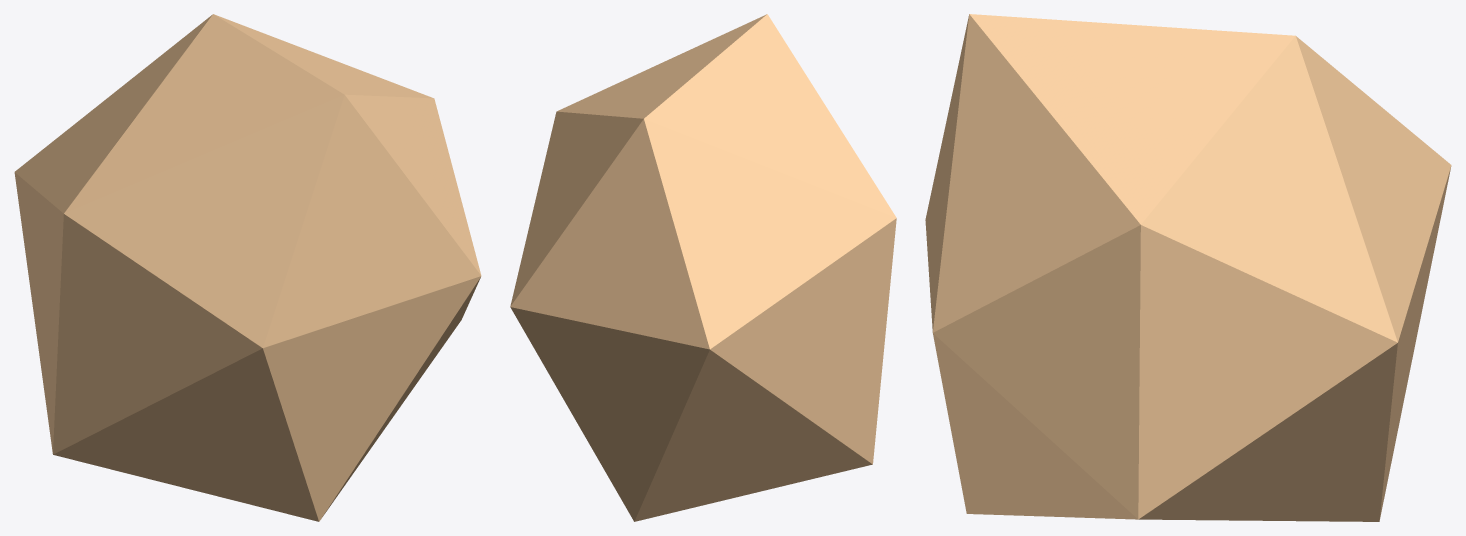
The model's file is smoke.glb.
The picture shows the model from 3 angles, left to right: view 1: azimuth 30°, elevation 25°; view 2: azimuth 150°, elevation 25°; view 3: azimuth 270°, elevation 25°; orthographic projection. The views are drawn at different scales.
Visible parts, largest first — view 1: Puff; view 2: Puff; view 3: Puff.
Boxes of the visible parts, x1,y1,x2,y2 form: Puff: (14, 14, 481, 521); Puff: (510, 14, 896, 521); Puff: (925, 14, 1451, 521).
Size of the model in its own units: 0.6172 by 0.6316 by 0.5777.
